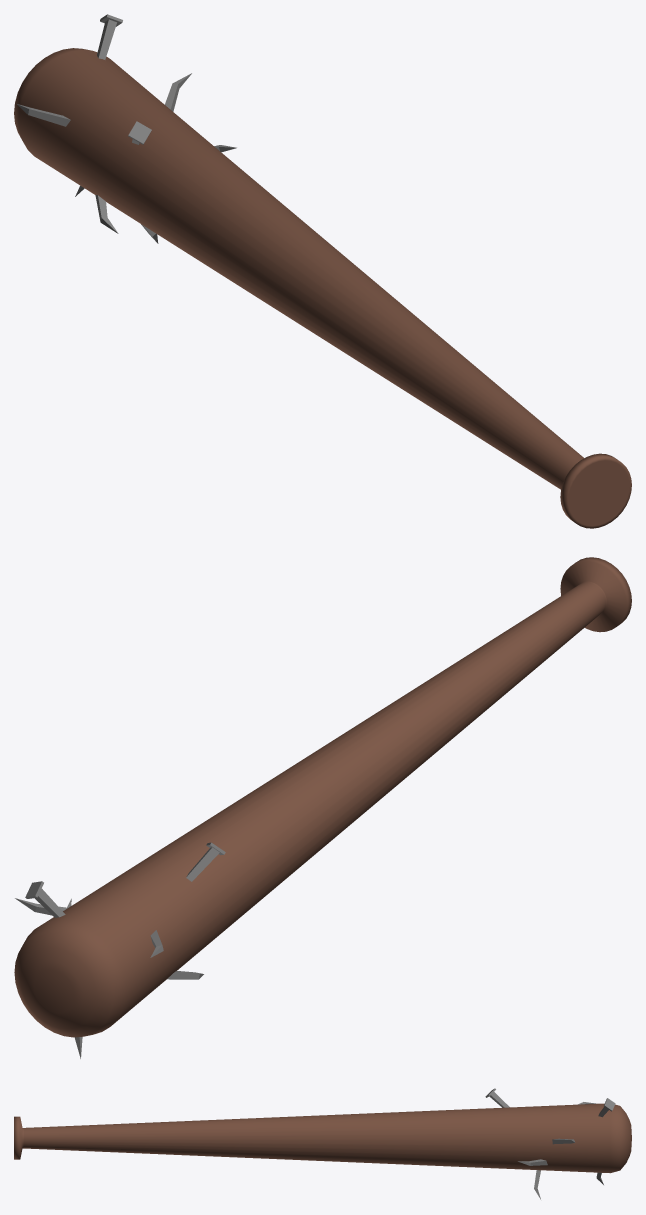
The model's file is Pat.fbx.
3 renders of one model, top to bottom at view 1: azimuth 30°, elevation 25°; view 2: azimuth 150°, elevation 25°; view 3: azimuth 270°, elevation 25°, orthographic. The views are drawn at different scales.
Visible parts, largest first — view 1: PatFinal; view 2: PatFinal; view 3: PatFinal.
Boxes of the visible parts, <box> form: PatFinal: <box>14,14,631,528</box>; PatFinal: <box>14,557,631,1058</box>; PatFinal: <box>14,1088,631,1199</box>.
Size of the model in its own units: 294 by 330 by 1765.
